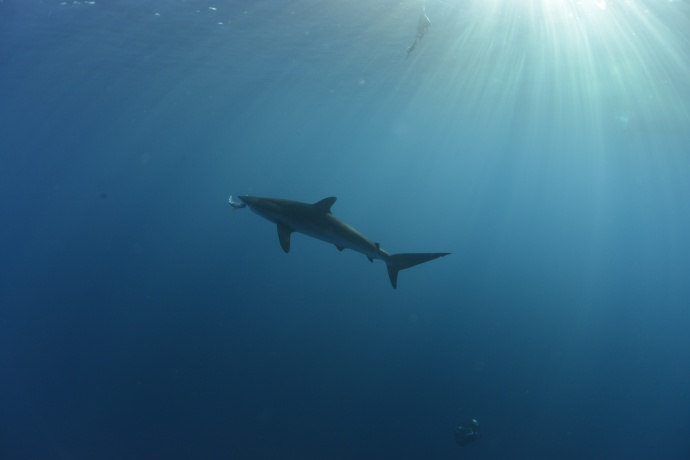Sedoso: (225, 183, 460, 306)
